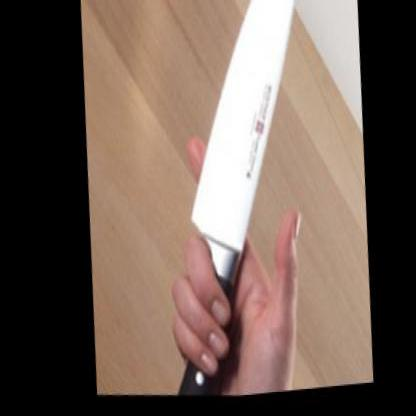knife: (145, 0, 341, 314)
